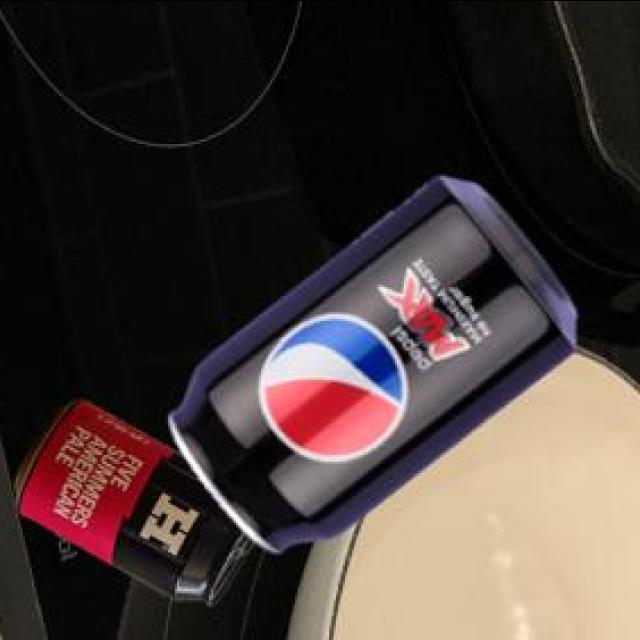logam: (174, 171, 580, 548), (19, 396, 258, 600)
